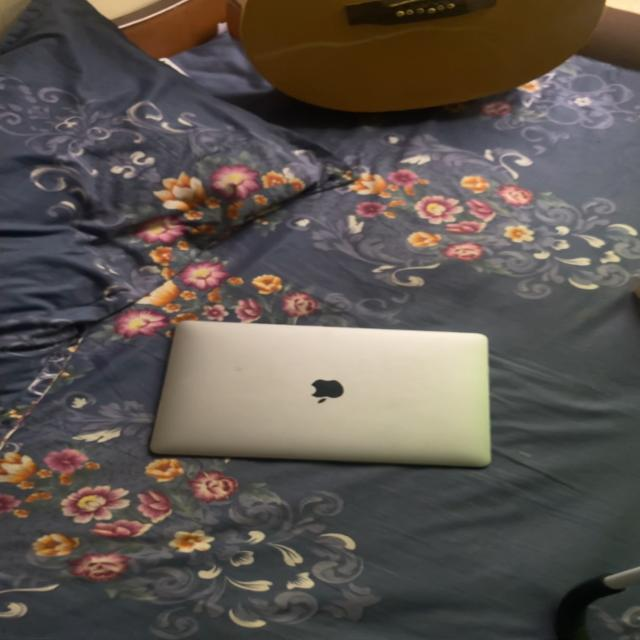guitar: (219, 0, 627, 128)
laptop: (157, 303, 520, 478)
